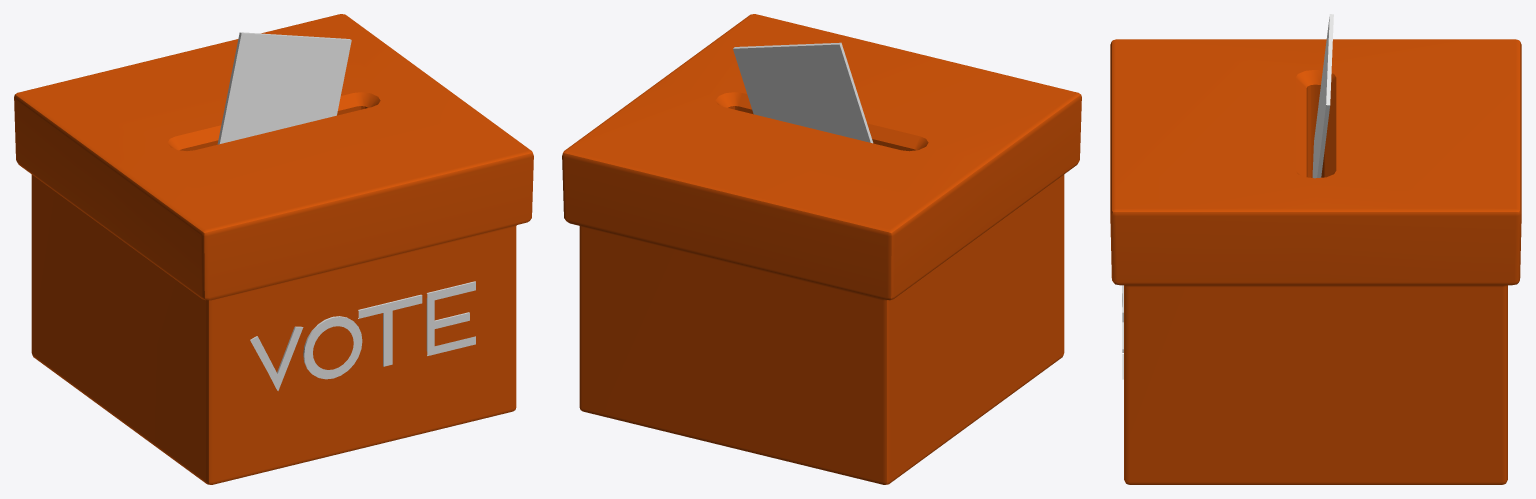
File: vote box.fbx
3 renders of one model, left to right at view 1: azimuth 30°, elevation 25°; view 2: azimuth 150°, elevation 25°; view 3: azimuth 270°, elevation 25°, orthographic. The views are drawn at different scales.
Parts seen in each view (by area): view 1: vote_box; view 2: vote_box; view 3: vote_box.
Part boxes in pixels (bbox=[...]): vote_box: bbox=[14, 14, 533, 484]; vote_box: bbox=[562, 14, 1081, 484]; vote_box: bbox=[1110, 14, 1521, 484].
Size of the model in its own units: 4.68 by 4.75 by 4.68.
